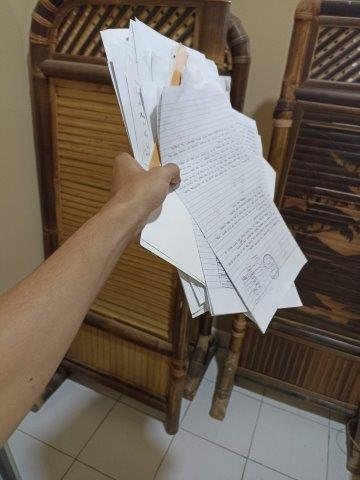kertas: (99, 16, 307, 335)
